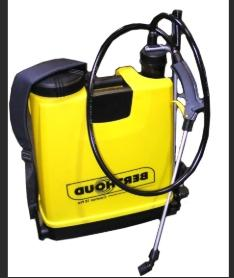PULVERISATEUR: (10, 2, 216, 278)
